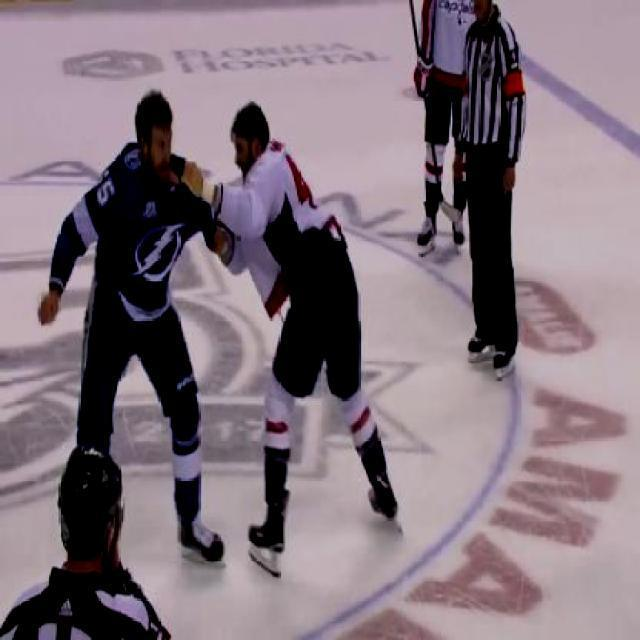fight: (42, 93, 400, 524)
non-fight: (450, 0, 530, 378)
